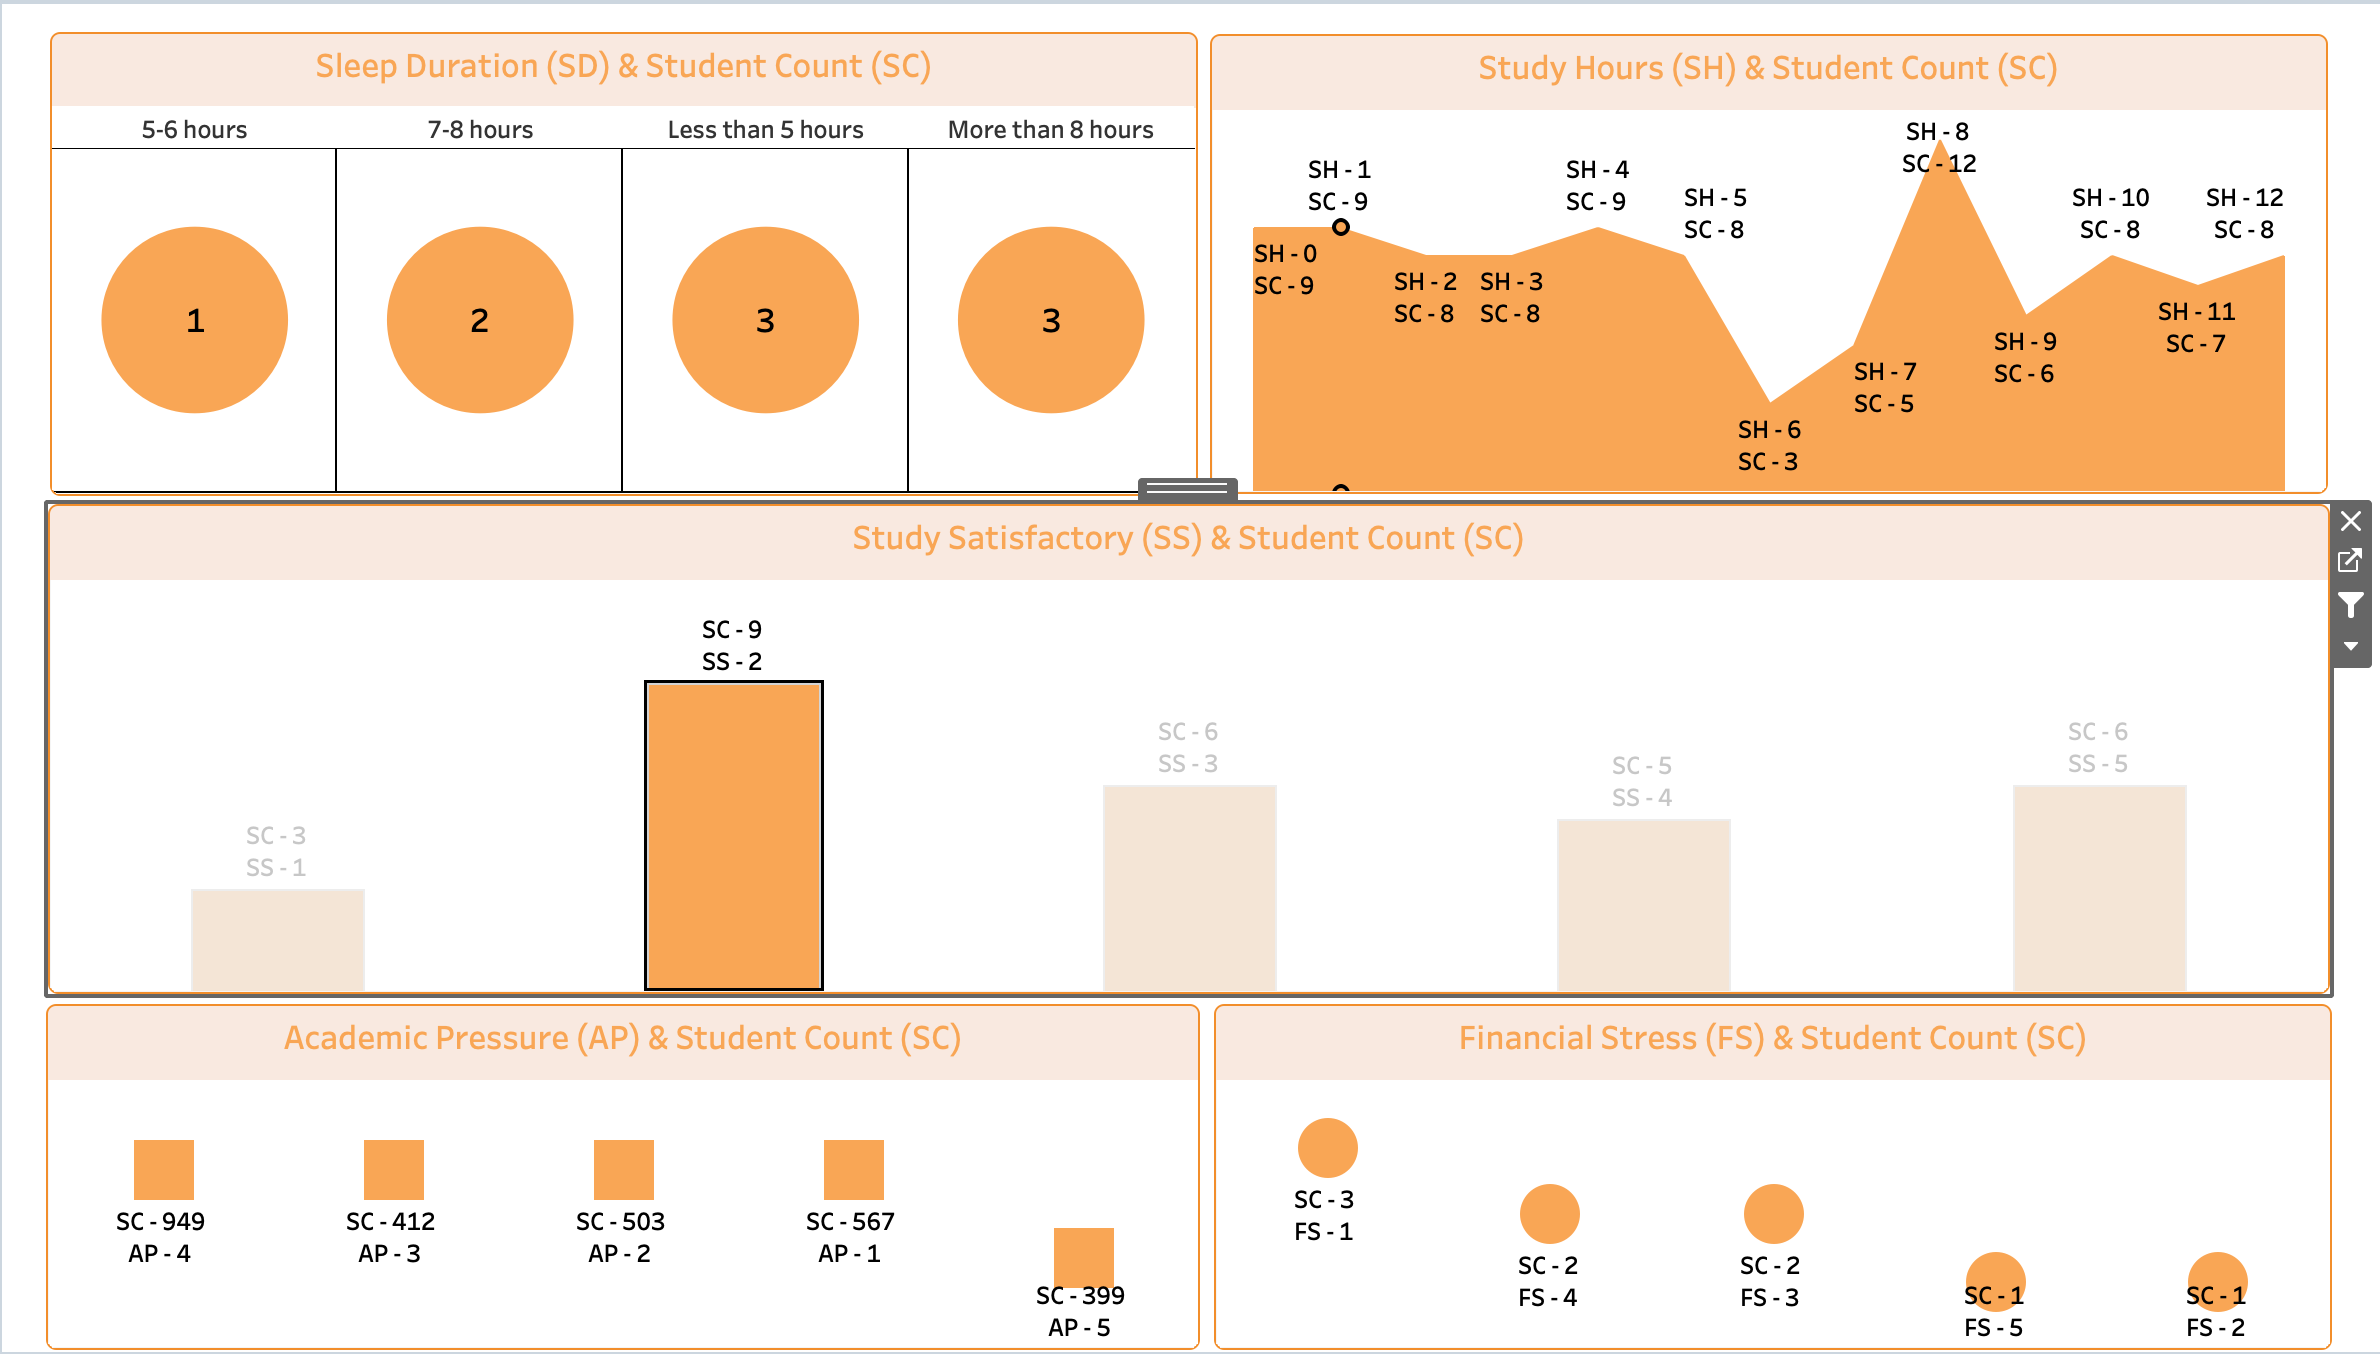

The dashboard page shown, as its layout file describes it:
{"tool":"tableau","page":{"name":"Dashboard 1","canvas":[1000,1000],"units":"permille","ordinal":0},"visuals":[{"type":"title","box":[6.6,10.9,986.9,61.2]},{"type":"worksheet","title":"Sheet 4","mark":"Pie","cols":["sleep_duration"],"box":[26.2,91.2,470.5,315.7]},{"type":"worksheet","title":"Sheet 5","mark":"Area","rows":["index_col"],"cols":["study_hours"],"box":[501.6,92.5,458.2,312.9]},{"type":"worksheet","title":"Sheet 3","mark":"Automatic","rows":["index_col"],"cols":["study_satisfaction"],"box":[25.4,412.2,935.2,333.3]},{"type":"worksheet","title":"Sheet 1","mark":"Square","rows":["index_col"],"cols":["academic_pressure"],"box":[24.6,752.4,472.9,235.4]},{"type":"worksheet","title":"Sheet 2","mark":"Circle","rows":["index_col"],"cols":["financial_stress"],"box":[503.3,752.4,458.2,235.4]}]}

Visuals, with their boxes on the dashboard's canvas, which has no fixed pixel size, in thousandths of its width and height (x1, y1, x2, y2). These are canvas units, not pixel positions in the 2380x1354 screenshot, which may show the page scaled, cropped or inside an application window:
title: <bbox>7, 11, 994, 72</bbox>
"Sheet 4" worksheet (Pie marks): <bbox>26, 91, 497, 407</bbox>
"Sheet 5" worksheet (Area marks): <bbox>502, 92, 960, 405</bbox>
"Sheet 3" worksheet: <bbox>25, 412, 961, 746</bbox>
"Sheet 1" worksheet (Square marks): <bbox>25, 752, 498, 988</bbox>
"Sheet 2" worksheet (Circle marks): <bbox>503, 752, 962, 988</bbox>
